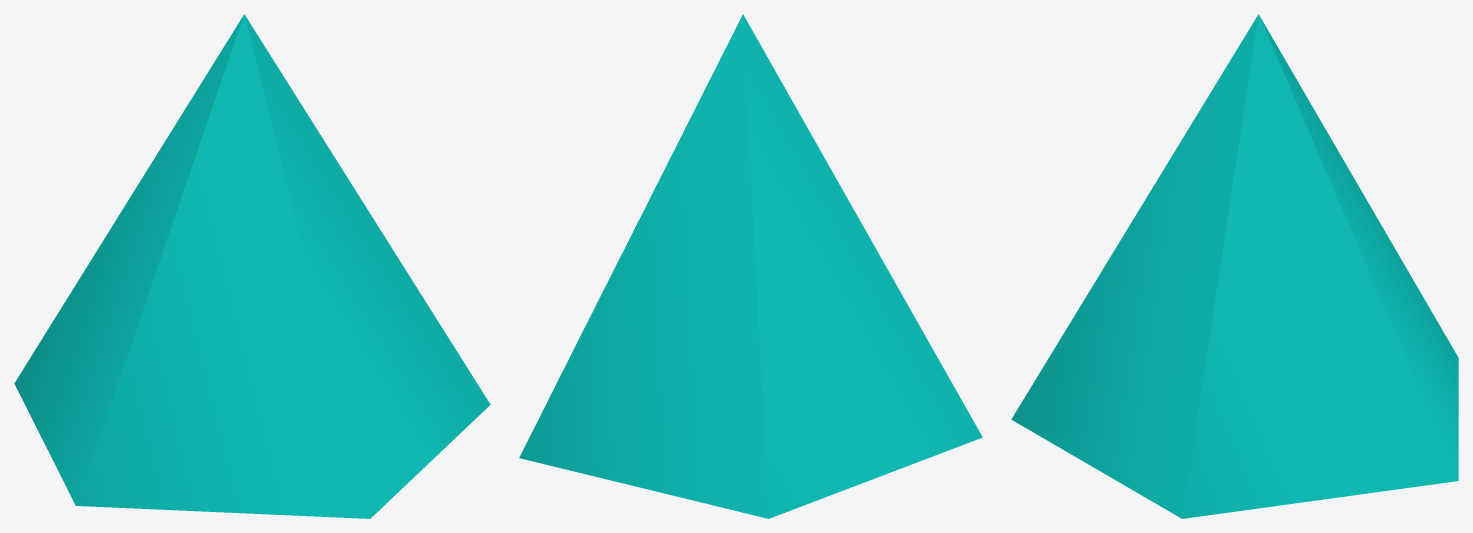
3 views of the same model, side by side, from view 1: azimuth 30°, elevation 25°; view 2: azimuth 150°, elevation 25°; view 3: azimuth 270°, elevation 25° (orthographic). The views are drawn at different scales.
Size of the model in its own units: 0.7837 by 0.7453 by 0.7453.
